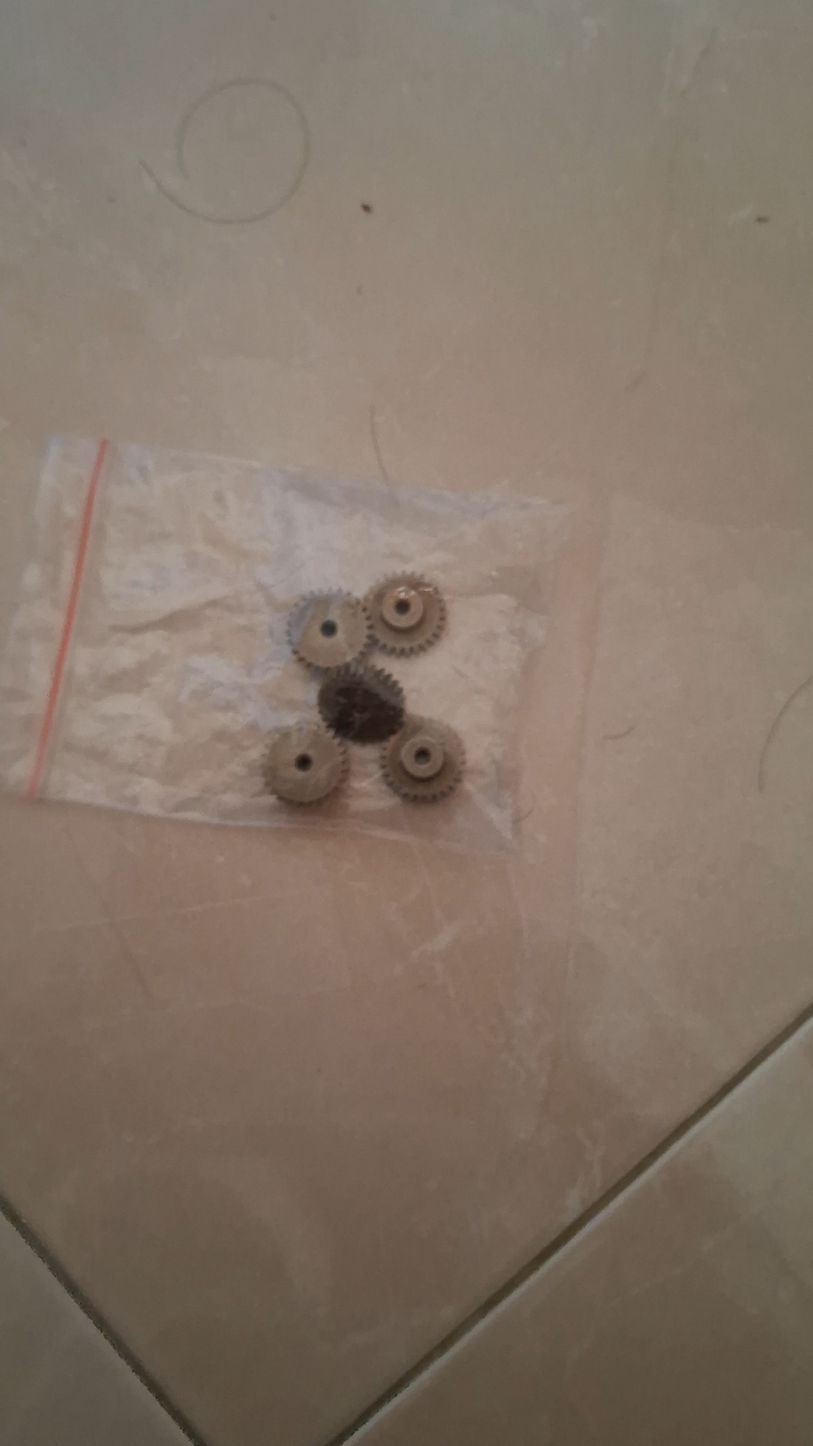spur gear: (263, 721, 348, 804), (381, 717, 464, 801), (318, 664, 404, 744), (364, 573, 446, 656), (288, 592, 371, 668)
